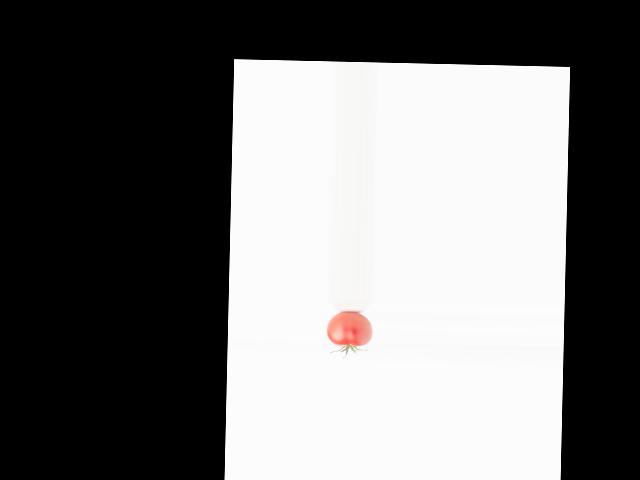tomato: (325, 311, 372, 346)
